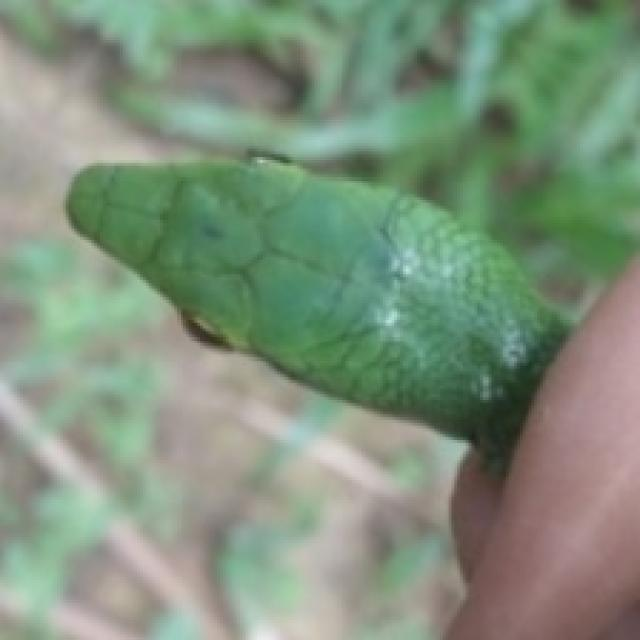red-tailed green ratsnake: (66, 160, 566, 471)
